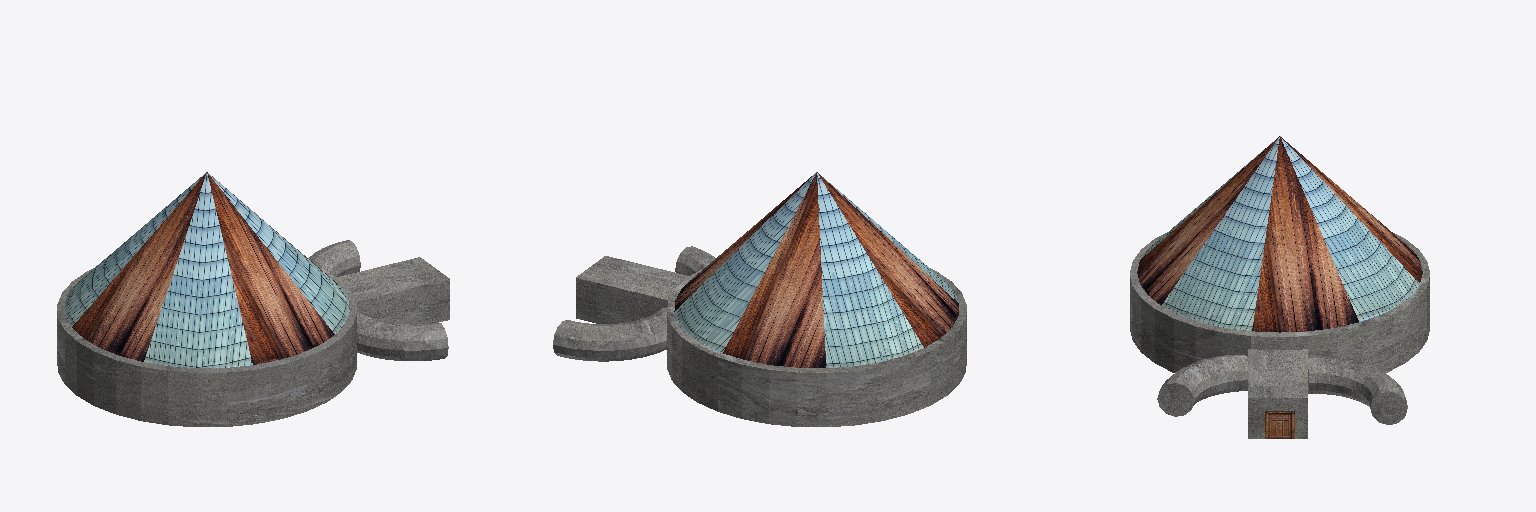
3 views of the same model, side by side, from view 1: azimuth 30°, elevation 25°; view 2: azimuth 150°, elevation 25°; view 3: azimuth 270°, elevation 25° (orthographic).
Visible parts, largest first — view 1: Cone, Cylinder, Cube_Cube.001, Torus.002_Torus.004, Torus.001_Torus.003; view 2: Cone, Cylinder, Cube_Cube.001, Torus.001_Torus.003, Torus.002_Torus.004; view 3: Cone, Cylinder, Cube_Cube.001, Torus.001_Torus.003, Torus.002_Torus.004, Plane_Plane.001.
Part boxes in pixels (bbox=[...]): Cone: bbox=[65, 172, 349, 367]; Cylinder: bbox=[57, 267, 356, 426]; Cube_Cube.001: bbox=[337, 257, 449, 323]; Torus.002_Torus.004: bbox=[357, 311, 448, 360]; Torus.001_Torus.003: bbox=[308, 240, 360, 276]; Cone: bbox=[674, 172, 958, 367]; Cylinder: bbox=[667, 267, 966, 426]; Cube_Cube.001: bbox=[576, 256, 688, 323]; Torus.001_Torus.003: bbox=[553, 308, 666, 361]; Torus.002_Torus.004: bbox=[675, 246, 715, 275]; Cone: bbox=[1137, 136, 1422, 332]; Cylinder: bbox=[1130, 233, 1429, 372]; Cube_Cube.001: bbox=[1248, 349, 1307, 438]; Torus.001_Torus.003: bbox=[1308, 357, 1407, 424]; Torus.002_Torus.004: bbox=[1157, 355, 1247, 416]; Plane_Plane.001: bbox=[1265, 411, 1294, 438].
Size of the model in its own units: 27.52 by 14.11 by 20.
7 materials, 4 textured.